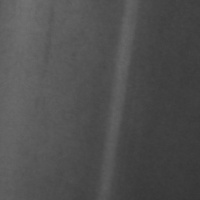scratches: (97, 10, 139, 196)
